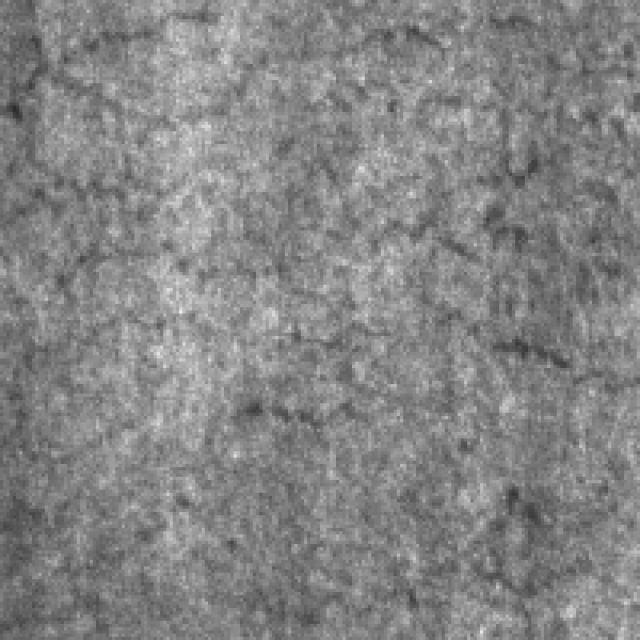crazing: (282, 7, 630, 426), (12, 0, 218, 474), (13, 0, 454, 141)
inclusion: (256, 288, 627, 397)
